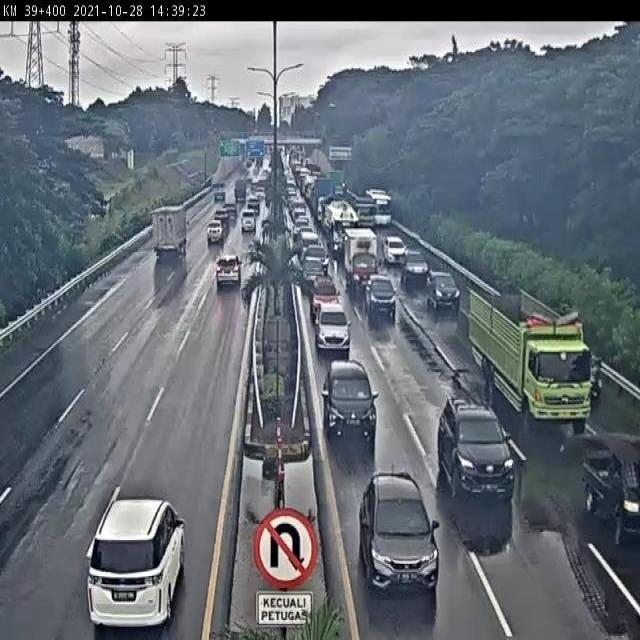ARABA: (86, 500, 190, 629), (355, 474, 441, 594), (439, 395, 516, 496), (321, 363, 378, 440), (314, 301, 348, 348), (424, 271, 458, 308), (309, 274, 339, 314), (366, 274, 396, 314), (212, 256, 243, 291), (399, 249, 427, 280), (302, 244, 329, 271), (302, 257, 324, 288), (207, 219, 224, 244)
KAMYONET: (466, 285, 592, 428), (582, 433, 640, 536), (150, 205, 189, 258), (344, 225, 378, 284)
